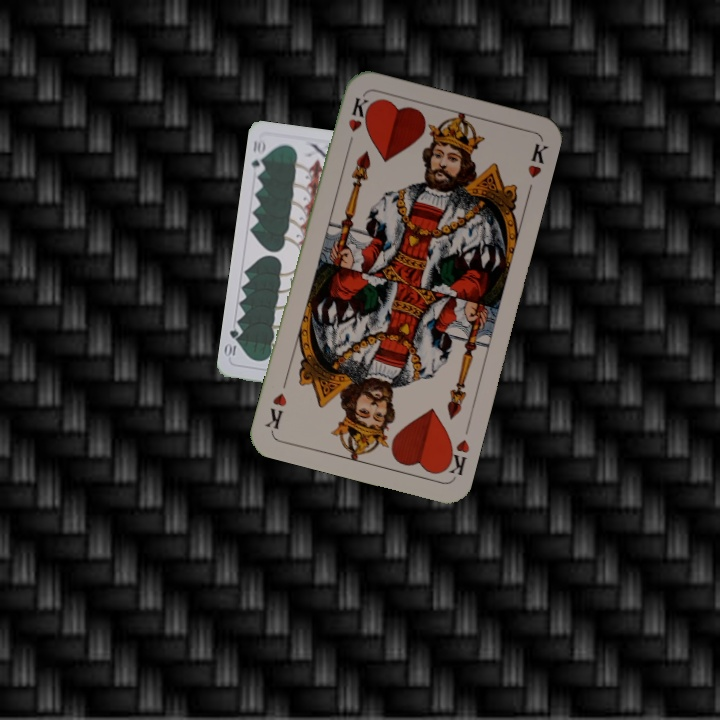G10: (247, 135, 268, 176)
HK: (343, 93, 371, 152), (439, 435, 472, 478)
